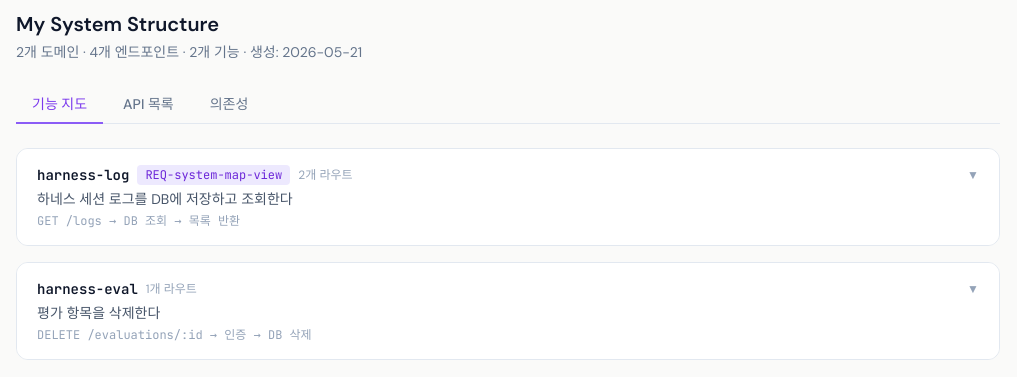
Test: SystemStructurePage — 의존성 탭 공유 코드 테이블 › 각 행에 파일명(짧은 경로)이 표시된다
The image size is (1017, 377).
Click the tab "의존성": coordinates (229, 105) [194, 86, 264, 124]
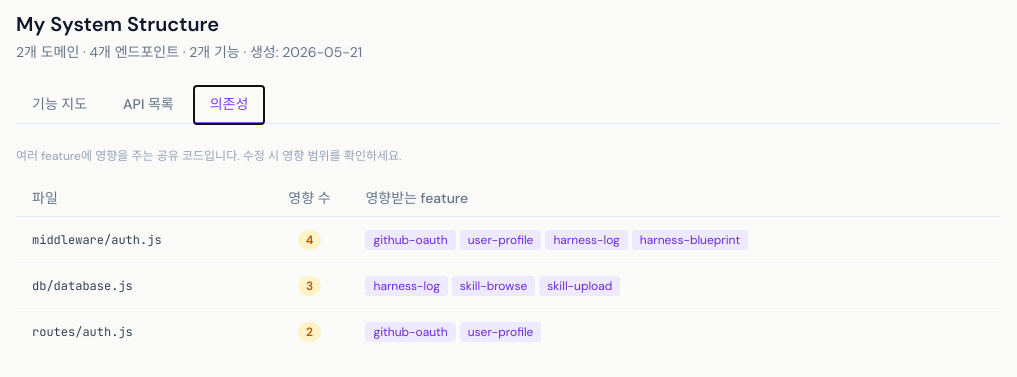
Now the row that starts with "middleware/auth.js" is shown, box [16, 216, 1000, 262]
